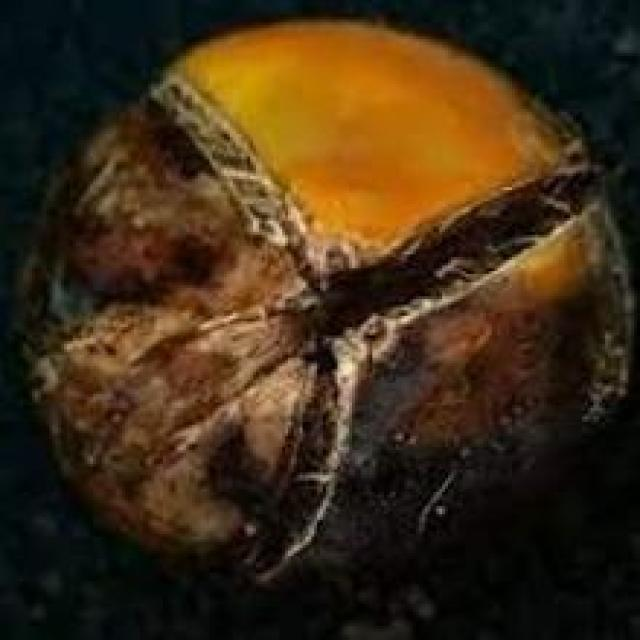damaged: (23, 22, 625, 581)
